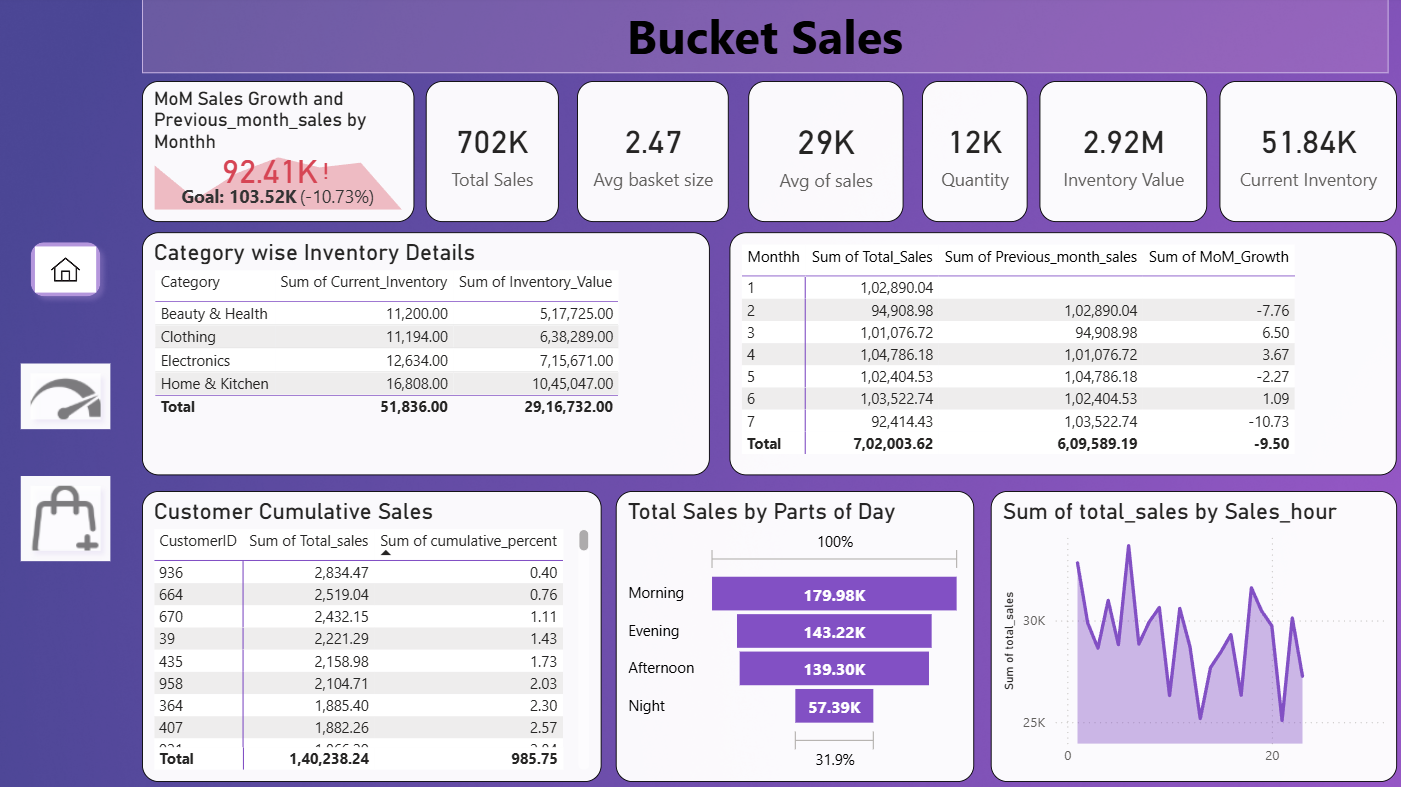

What the dashboard file says about the page in this screenshot:
{"tool":"powerbi","page":{"name":"Bucket Analysis","canvas":[1280,720],"ordinal":2},"visuals":[{"type":"card","fields":{"Values":["Sum(sales_bucket.total_sales)"]},"box":[395.3,76.5,119.7,127],"z":0},{"type":"card","fields":{"Values":["Sum(sales_transaction.QuantityPurchased)"]},"box":[842.6,76.5,95.2,127],"z":1000},{"type":"card","fields":{"Values":["Avg(sales_bucket.total_sales)"]},"box":[686.8,76.5,139.9,127],"z":2000},{"type":"card","fields":{"Values":["Sum(cat_curinv_invvalue.Current_Inventory)"]},"box":[1110.9,76.5,160.1,127],"z":3000},{"type":"card","fields":{"Values":["Sum(cat_curinv_invvalue.Inventory_Value)"]},"box":[949.3,76.5,151.5,127],"z":4000},{"type":"tableEx","title":"Category wise Inventory Details","fields":{"Values":["cat_curinv_invvalue.category","Sum(cat_curinv_invvalue.Current_Inventory)","Sum(cat_curinv_invvalue.Inventory_Value)"]},"box":[139.9,213.5,512.2,219.3],"z":5000},{"type":"funnel","title":"Total Sales by Parts of Day","fields":{"Category":["sales_bucket.Bucket_Category"],"Y":["Sum(sales_bucket.total_sales)"]},"box":[567,445.8,323.2,262.6],"z":6000},{"type":"card","fields":{"Values":["Sum(avg_basket_size.Avg_basket_size)"]},"box":[532.4,76.5,137.1,127],"z":7000},{"type":"lineChart","fields":{"Category":["hourly_sales_trend.Sales_hour"],"Y":["Sum(hourly_sales_trend.total_sales)"]},"box":[904.6,445.8,366.5,262.6],"z":8000},{"type":"pivotTable","title":"Customer Cumulative Sales","fields":{"Rows":["cust_sales_cumulative_percent.CustomerID"],"Values":["Sum(cust_sales_cumulative_percent.Total_sales)","Sum(cust_sales_cumulative_percent.cumulative_percent)"]},"box":[139.9,445.8,414.1,262.6],"z":9000},{"type":"pivotTable","fields":{"Rows":["mom_sales.Monthh"],"Values":["Sum(mom_sales.Total_Sales)","Sum(mom_sales.Previous_month_sales)","Sum(mom_sales.MoM_Growth)"]},"box":[669.4,213.5,601.6,219.3],"z":10000},{"type":"kpi","fields":{"Indicator":["Sum(mom_sales.Total_Sales)"],"Goal":["Sum(mom_sales.Previous_month_sales)"],"TrendLine":["mom_sales.Monthh"]},"box":[139.9,76.5,245.3,127],"z":11000},{"type":"actionButton","box":[30.6,212.9,80.7,66.8],"z":12000},{"type":"actionButton","title":"Retail Analysis","box":[30.3,331.8,80.8,59.2],"z":12001},{"type":"actionButton","title":"Bucket Analysis","box":[30.3,432.8,80.8,76.5],"z":12002},{"type":"textbox","box":[139.9,0,1123.9,69.3],"z":12003}]}

Visuals, with their boxes in screenshot pixels (x1, y1, x2, y2), scaled from the page's 1280x720 canvas onto the 1401x787 screenshot:
card - Sum(sales_bucket.total_sales): [x1=433, y1=84, x2=564, y2=222]
card - Sum(sales_transaction.QuantityPurchased): [x1=922, y1=84, x2=1026, y2=222]
card - Avg(sales_bucket.total_sales): [x1=752, y1=84, x2=905, y2=222]
card - Sum(cat_curinv_invvalue.Current_Inventory): [x1=1216, y1=84, x2=1391, y2=222]
card - Sum(cat_curinv_invvalue.Inventory_Value): [x1=1039, y1=84, x2=1205, y2=222]
"Category wise Inventory Details" tableEx: [x1=153, y1=233, x2=714, y2=473]
"Total Sales by Parts of Day" funnel: [x1=621, y1=487, x2=974, y2=774]
card - Sum(avg_basket_size.Avg_basket_size): [x1=583, y1=84, x2=733, y2=222]
lineChart - hourly_sales_trend.Sales_hour x Sum(hourly_sales_trend.total_sales): [x1=990, y1=487, x2=1391, y2=774]
"Customer Cumulative Sales" pivotTable: [x1=153, y1=487, x2=606, y2=774]
pivotTable - mom_sales.Monthh x Sum(mom_sales.Total_Sales): [x1=733, y1=233, x2=1391, y2=473]
kpi - Sum(mom_sales.Total_Sales) x Sum(mom_sales.Previous_month_sales): [x1=153, y1=84, x2=422, y2=222]
actionButton: [x1=33, y1=233, x2=122, y2=306]
"Retail Analysis" actionButton: [x1=33, y1=363, x2=122, y2=427]
"Bucket Analysis" actionButton: [x1=33, y1=473, x2=122, y2=557]
textbox: [x1=153, y1=0, x2=1383, y2=76]
